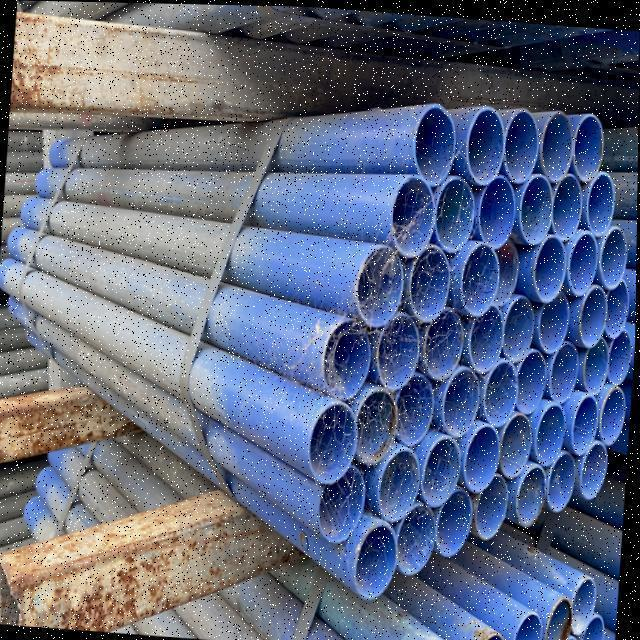pipe: (309, 398, 361, 487), (357, 246, 411, 331), (461, 103, 511, 185), (320, 464, 370, 545), (415, 101, 459, 188), (394, 175, 441, 256), (375, 448, 425, 522), (379, 310, 425, 390), (401, 495, 444, 580), (410, 241, 454, 320), (435, 174, 480, 251), (324, 322, 372, 394), (474, 173, 518, 251), (360, 387, 404, 465), (355, 526, 401, 600), (462, 236, 505, 312), (427, 307, 469, 384), (440, 478, 479, 560), (425, 435, 467, 508), (397, 370, 437, 445), (535, 277, 574, 353), (444, 366, 486, 436), (466, 421, 506, 493), (507, 106, 543, 185), (578, 262, 611, 348), (470, 301, 508, 372), (483, 358, 522, 427), (475, 468, 511, 542), (533, 230, 571, 299), (553, 168, 588, 240), (523, 171, 557, 243), (573, 111, 607, 179), (505, 411, 537, 483), (535, 400, 572, 462), (545, 107, 577, 178), (515, 461, 551, 523), (505, 292, 538, 359), (583, 169, 617, 234), (569, 393, 602, 455), (548, 449, 581, 511), (572, 228, 603, 292), (549, 336, 582, 396), (520, 347, 549, 413), (580, 439, 610, 498), (601, 376, 627, 444), (572, 572, 600, 634), (584, 333, 613, 390), (606, 276, 631, 337), (605, 225, 629, 285), (499, 235, 521, 299), (548, 594, 577, 640), (611, 330, 630, 379), (519, 614, 546, 640), (585, 614, 606, 640)
